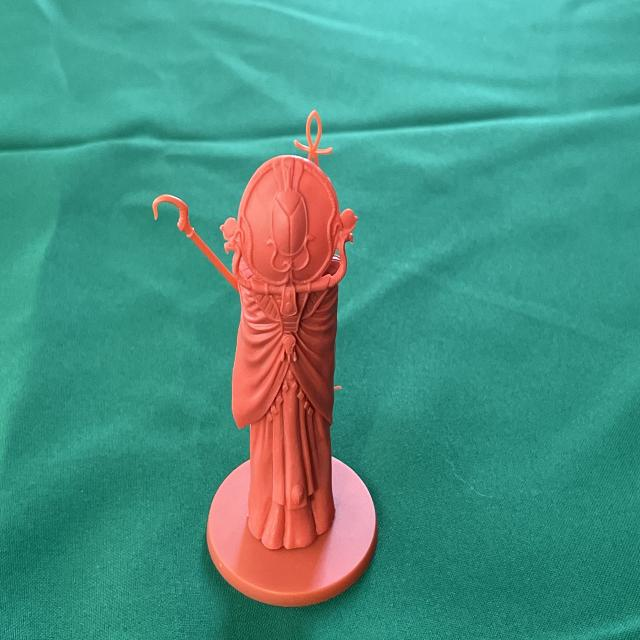amon: (145, 105, 381, 611)
